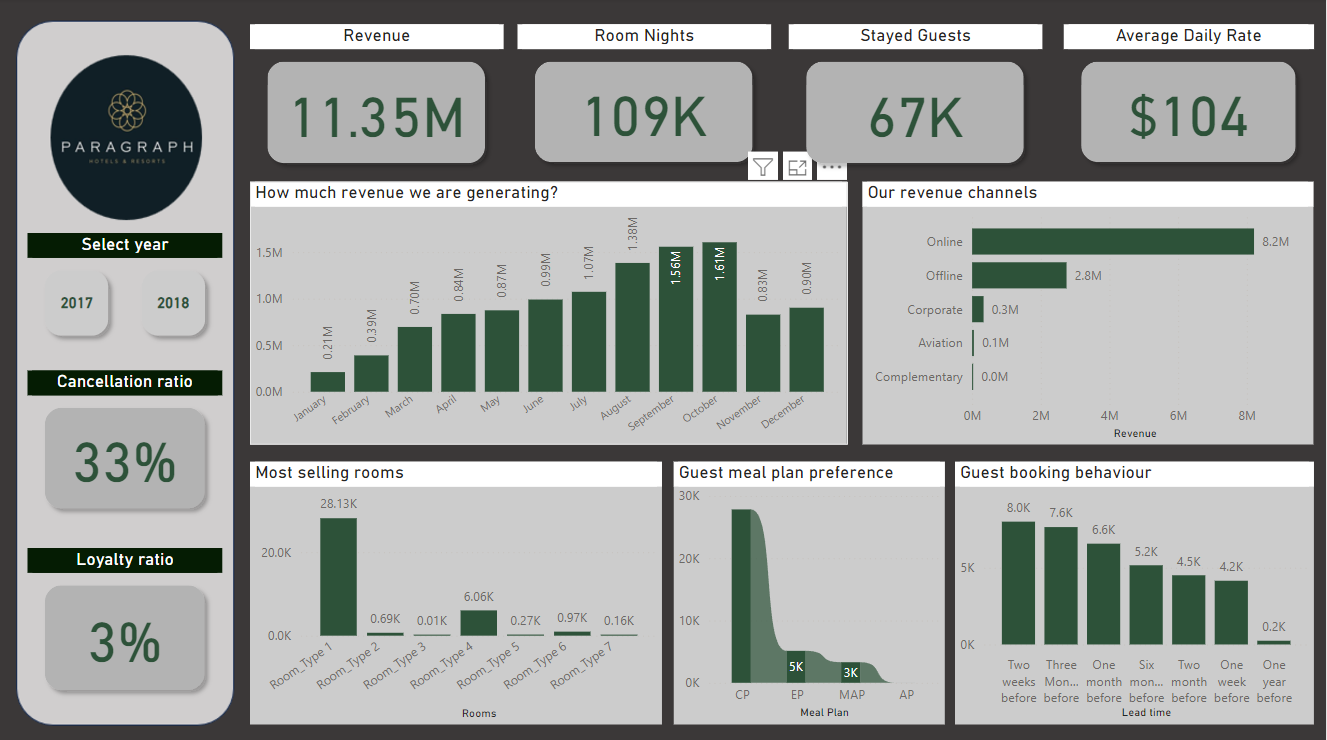

What the dashboard file says about the page in this screenshot:
{"tool":"powerbi","page":{"name":"Page 1","canvas":[1280,720],"ordinal":0},"visuals":[{"type":"cardVisual","title":"Revenue","fields":{"Data":["Sum(Hotel.Revenue)"]},"box":[241.3,25.3,244.9,152],"z":0},{"type":"cardVisual","title":"Room Nights","fields":{"Data":["Sum(Hotel.Room Nights)"]},"box":[499.5,25.3,244.9,150.8],"z":1000},{"type":"cardVisual","title":"Cancellation ratio","fields":{"Data":["Hotel.cancellation rate"]},"box":[26.5,359.5,188.2,150.8],"z":2000},{"type":"columnChart","title":"How much revenue we are generating?","fields":{"Y":["Sum(Hotel.Revenue)"],"Category":["Hotel.stay_date.Variation.Date Hierarchy.Month"]},"box":[241.5,177,576.3,253.9],"z":3000},{"type":"clusteredBarChart","title":"Our revenue channels","fields":{"Category":["Hotel.market_segment"],"Y":["Sum(Hotel.Revenue)"]},"box":[832.9,177,435,253.9],"z":4000},{"type":"columnChart","title":"Most selling rooms","fields":{"Category":["Hotel.room_type"],"Y":["CountNonNull(Hotel.ID)"]},"box":[241.5,447.3,397.9,253.9],"z":5000},{"type":"columnChart","title":"Guest booking behaviour","fields":{"Category":["Hotel.booking_date"],"Y":["CountNonNull(Hotel.ID)"]},"box":[921.7,447.6,346.2,253.4],"z":6000},{"type":"ribbonChart","title":"Guest meal plan preference","fields":{"Category":["Hotel.plan"],"Y":["CountNonNull(Hotel.ID)"]},"box":[650.3,447.6,261.8,253.4],"z":7000},{"type":"advancedSlicerVisual","title":"Select year","fields":{"Values":["Hotel.year"]},"box":[26.5,226.8,188.2,117],"z":8000},{"type":"cardVisual","title":"Loyalty ratio","fields":{"Data":["Hotel.loyality"]},"box":[26.5,530.8,188.2,154.4],"z":9000},{"type":"cardVisual","title":"Stayed Guests","fields":{"Data":["Sum(Hotel.n_adults)"]},"box":[761.3,25.3,244.9,152],"z":10000},{"type":"cardVisual","title":"Average Daily Rate","fields":{"Data":["Hotel.adr"]},"box":[1026.7,25.3,241.3,150.8],"z":11000}]}

Visuals, with their boxes in screenshot pixels (x1, y1, x2, y2), scaled from the page's 1280x720 canvas onto the 1327x740 screenshot:
"Revenue" cardVisual: crop(250, 26, 504, 182)
"Room Nights" cardVisual: crop(518, 26, 772, 181)
"Cancellation ratio" cardVisual: crop(27, 369, 223, 524)
"How much revenue we are generating?" columnChart: crop(250, 182, 848, 443)
"Our revenue channels" clusteredBarChart: crop(863, 182, 1314, 443)
"Most selling rooms" columnChart: crop(250, 460, 663, 721)
"Guest booking behaviour" columnChart: crop(956, 460, 1314, 720)
"Guest meal plan preference" ribbonChart: crop(674, 460, 946, 720)
"Select year" advancedSlicerVisual: crop(27, 233, 223, 353)
"Loyalty ratio" cardVisual: crop(27, 546, 223, 704)
"Stayed Guests" cardVisual: crop(789, 26, 1043, 182)
"Average Daily Rate" cardVisual: crop(1064, 26, 1315, 181)
